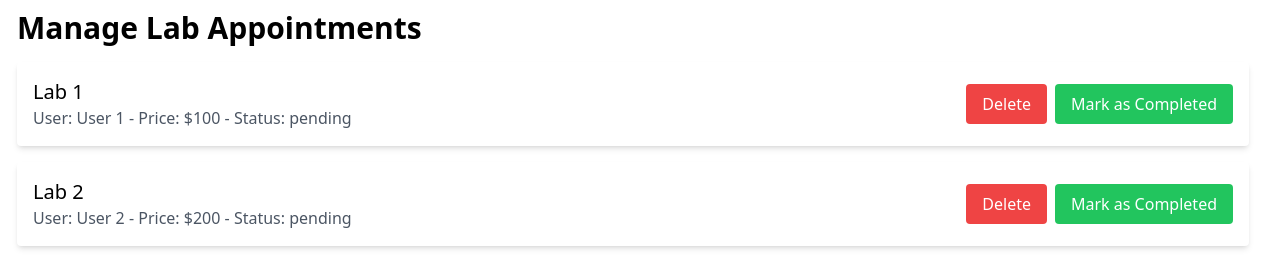
Test case: ManageLabAppointments › updates appointment status
Expected: the heading "Lab 1" is shown, [33,78,84,105]
// Click the update status button for the first appointment
Click the button "Mark as Completed" in the row of "Lab 1".
click(1144, 104)  # box [1055,84,1233,124]
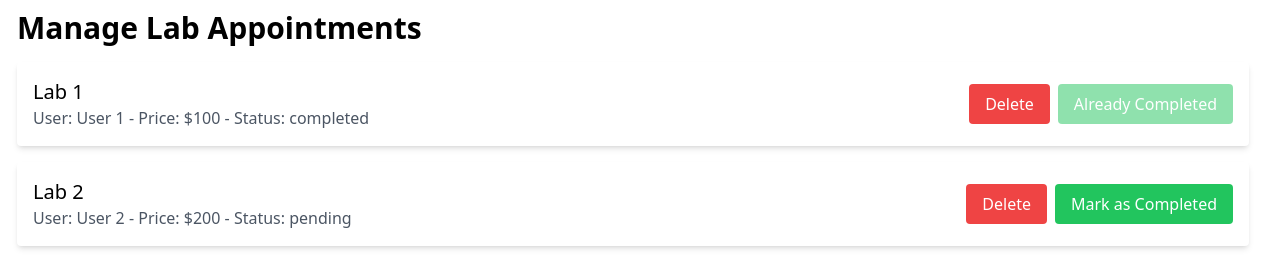
Expected: the text "User: User 1 - Price: $100 - Status: completed" is shown, [33,107,369,129]
